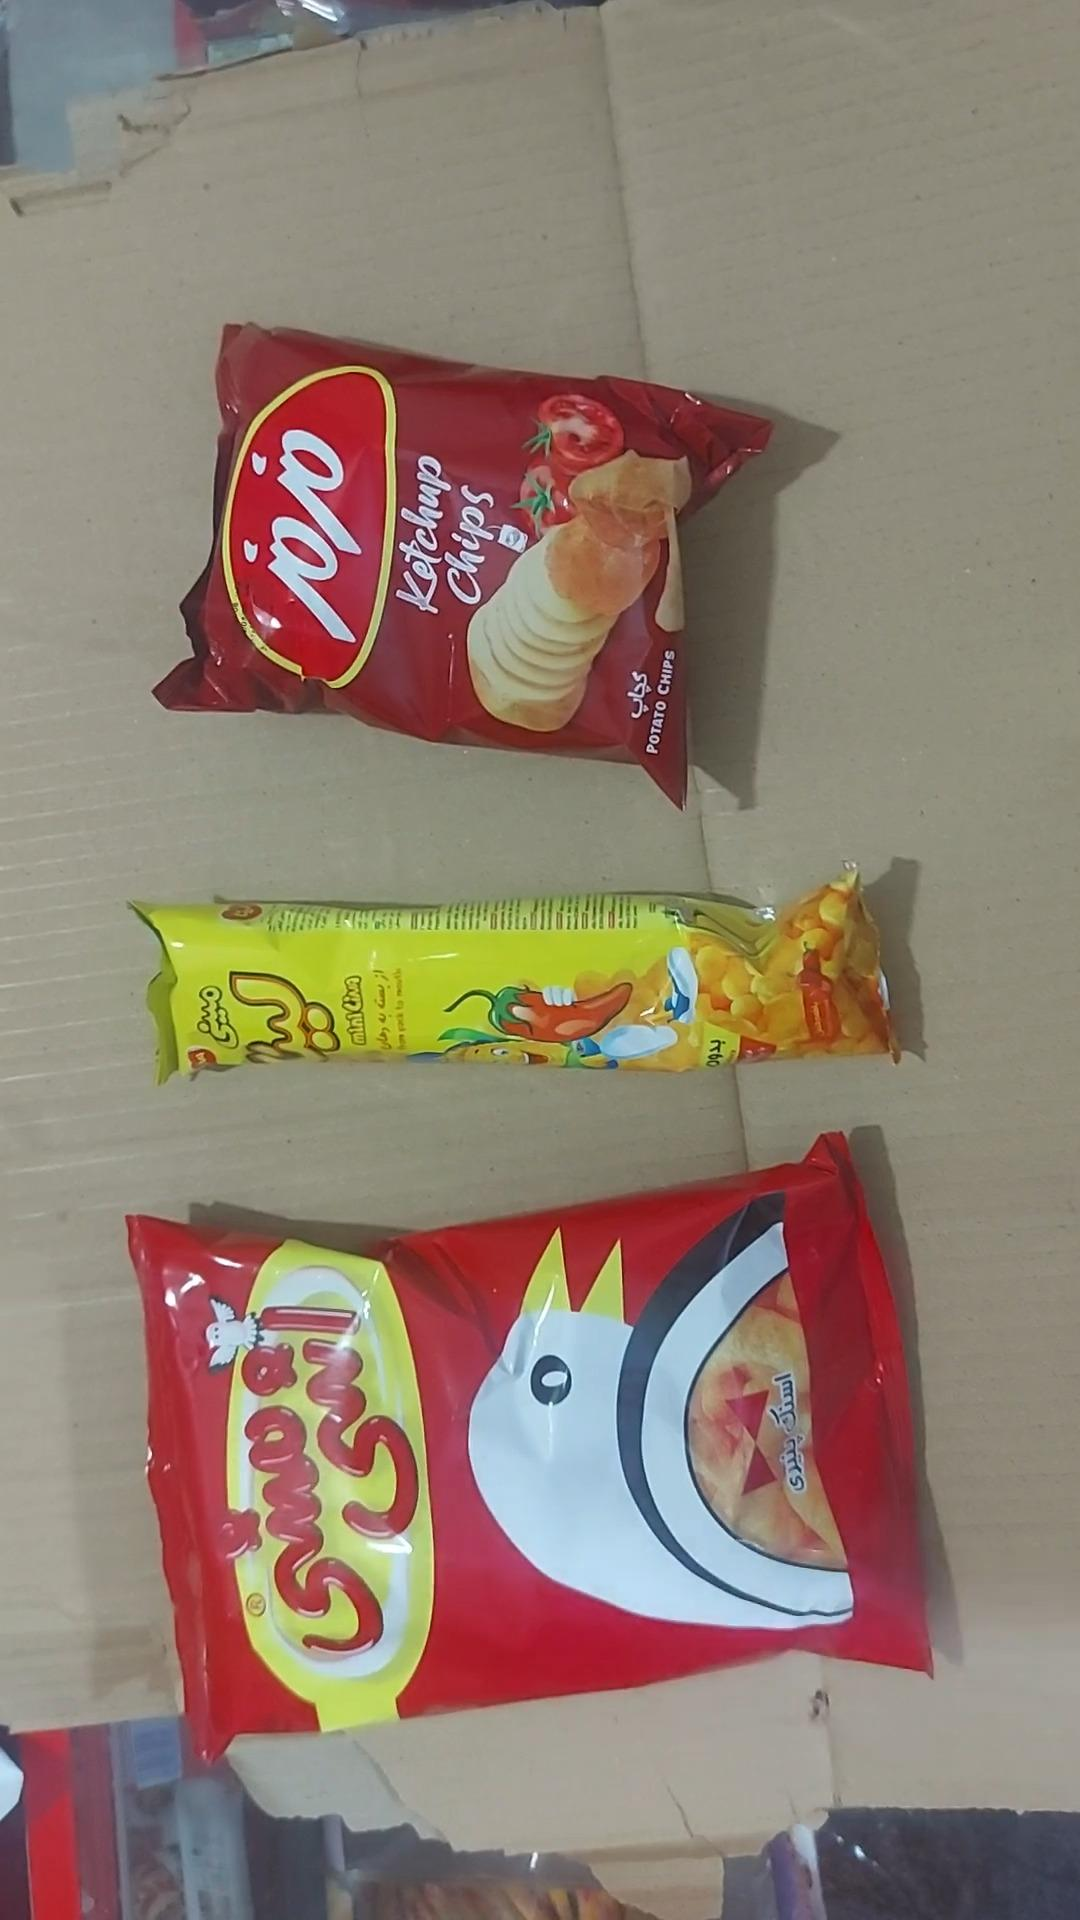Ashi Mashi snacks: (129, 1135, 932, 1756)
Maz Maz ketchup chips: (154, 324, 771, 806)
Mini Lina: (133, 870, 898, 1081)
